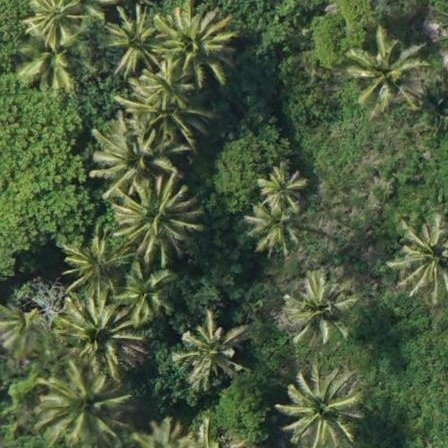palm_tree: (154, 6, 234, 86), (39, 365, 119, 444), (280, 373, 367, 442), (115, 179, 195, 254), (95, 125, 175, 193), (61, 299, 135, 372), (345, 37, 420, 109), (177, 317, 241, 382), (283, 277, 351, 336), (397, 216, 448, 293), (105, 10, 164, 66), (63, 240, 121, 293), (22, 1, 87, 47), (246, 201, 299, 251), (259, 166, 309, 215)
